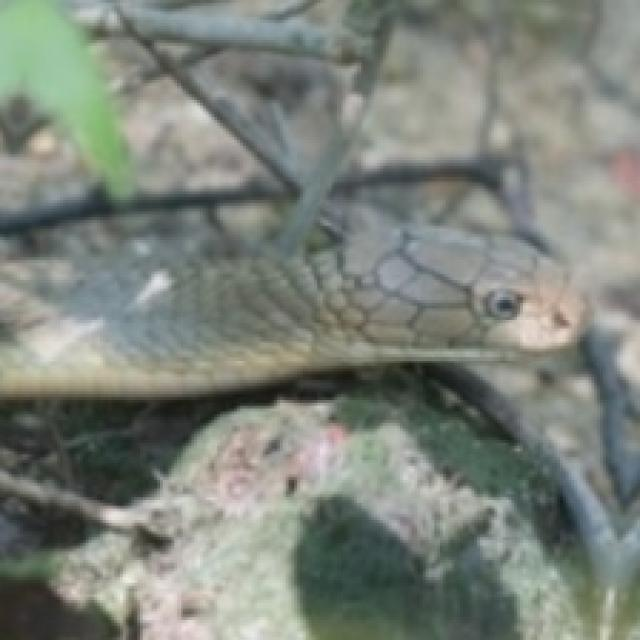king cobra: (0, 177, 583, 394)
